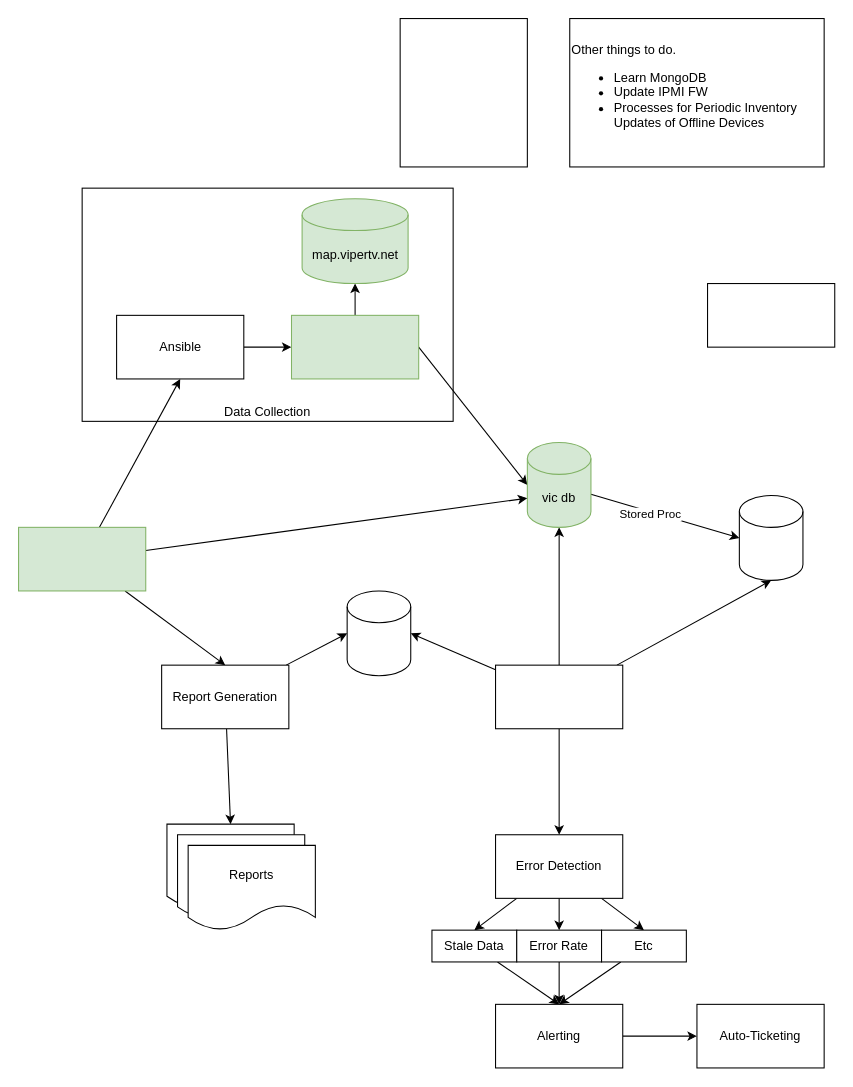
This 853x1087 diagram has some shape labels left out. Here are the shapes that lost their labels. From the top down, the box of each, then its label:
(399, 17, 527, 167): Things that need to be added to the base Sparing OS. NTP Spectre User Python3?
(290, 314, 419, 379): Spectre
(738, 494, 803, 580): Historical Data
(17, 526, 146, 591): vic ui
(346, 590, 411, 676): Report Data
(494, 664, 623, 729): Data Analysis
